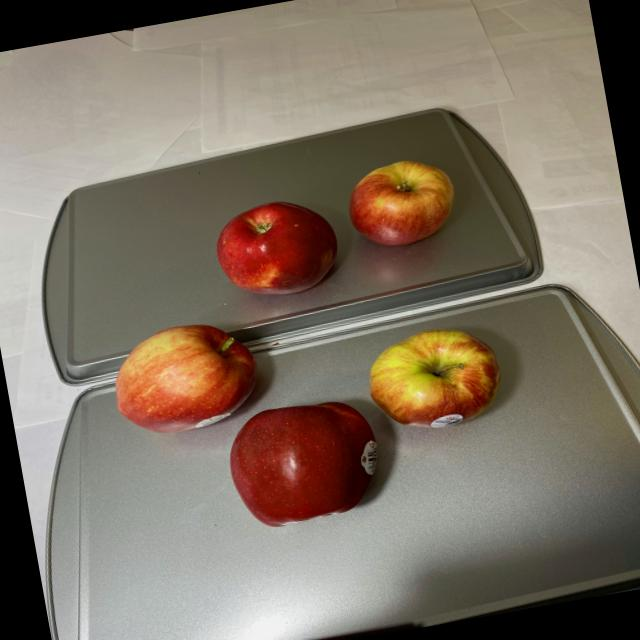apple: (100, 273, 520, 553), (201, 150, 468, 305)
